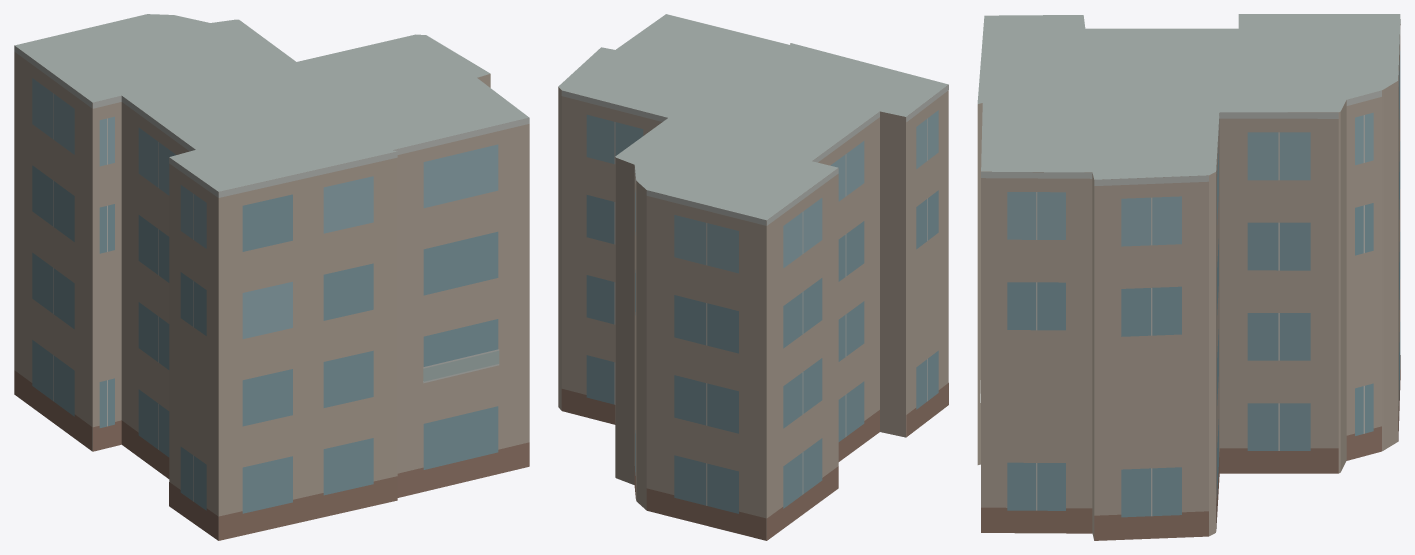
File: survey-upis-32475003.glb
3 views of the same model, side by side, from view 1: azimuth 30°, elevation 25°; view 2: azimuth 150°, elevation 25°; view 3: azimuth 270°, elevation 25° (orthographic). The views are drawn at different scales.
Visible parts, largest first — view 1: survey-upis-32475003.tmp; view 2: survey-upis-32475003.tmp; view 3: survey-upis-32475003.tmp.
Boxes of the visible parts, box(x1,y1,x2,y2) form: survey-upis-32475003.tmp: box(14, 14, 529, 540); survey-upis-32475003.tmp: box(558, 14, 948, 540); survey-upis-32475003.tmp: box(977, 14, 1400, 540).
Size of the model in its own units: 13.56 by 13.76 by 14.62.
